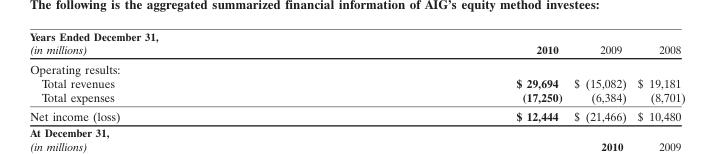table: (29, 29, 684, 123)
table column: (29, 29, 336, 123), (336, 29, 567, 123), (567, 29, 631, 123), (631, 29, 684, 123)
table column header: (29, 29, 684, 58)
table projected row header: (29, 58, 684, 75)
table row: (29, 29, 684, 58), (29, 58, 684, 75), (29, 89, 684, 106), (29, 106, 684, 123), (29, 75, 684, 89)
